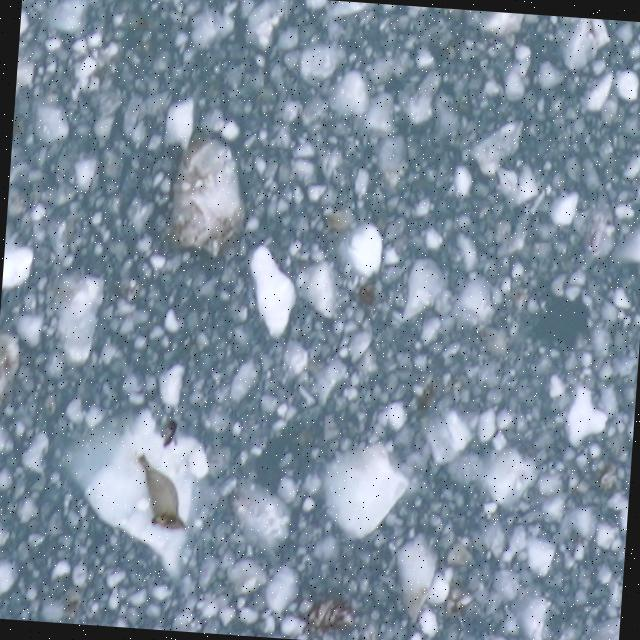seal: (129, 451, 197, 537)
